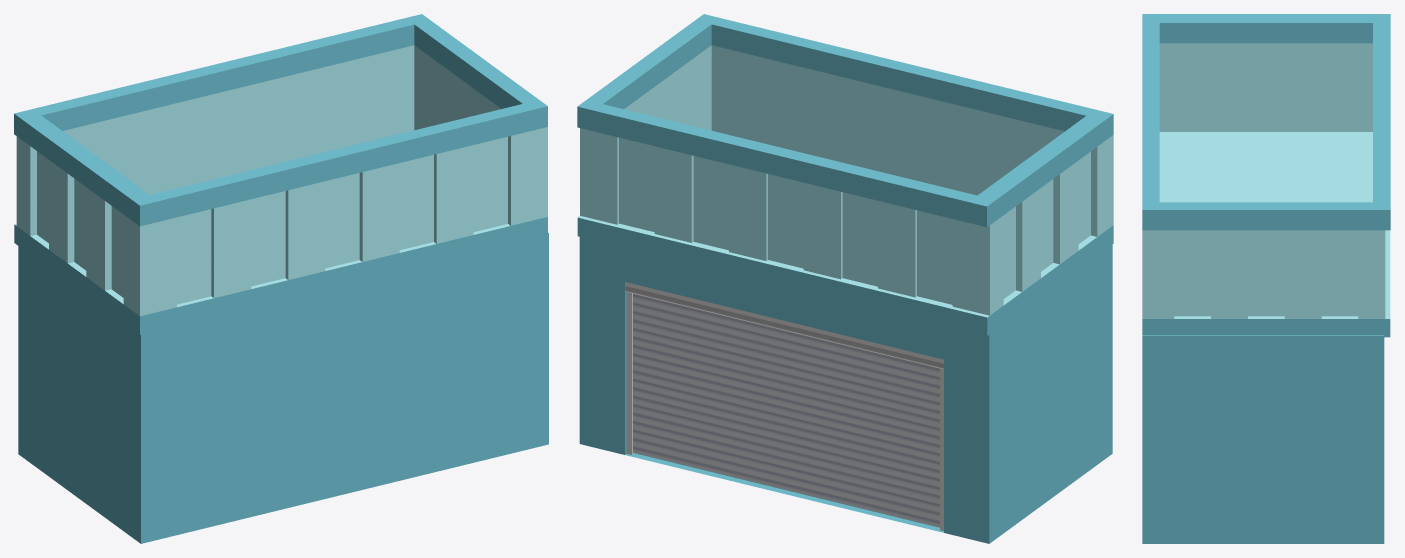
File: closedlargeshop.fbx
3 views of the same model, side by side, from view 1: azimuth 30°, elevation 25°; view 2: azimuth 150°, elevation 25°; view 3: azimuth 270°, elevation 25° (orthographic).
Parts seen in each view (by area): view 1: Roof.002, closedlargeshop; view 2: Roof.002, closedlargeshop, Cube.362, Cube.368, Cube.366, Cube.369; view 3: Roof.002, closedlargeshop.
Part boxes in pixels (x1,y1,x2,y2): Roof.002: (14,14,547,334); closedlargeshop: (18,232,548,543); Roof.002: (577,14,1113,335); closedlargeshop: (579,237,1112,543); Cube.362: (633,293,939,527); Cube.368: (625,282,943,369); Cube.366: (626,292,632,454); Cube.369: (940,368,943,530); Roof.002: (1142,14,1390,337); closedlargeshop: (1142,335,1384,543).
Size of the model in its own units: 12.15 by 9.61 by 6.48.
